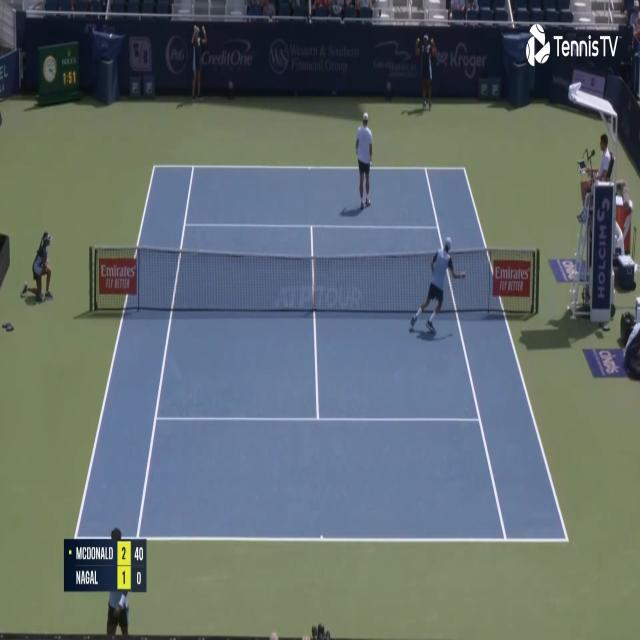tennis-player: (355, 110, 374, 210)
